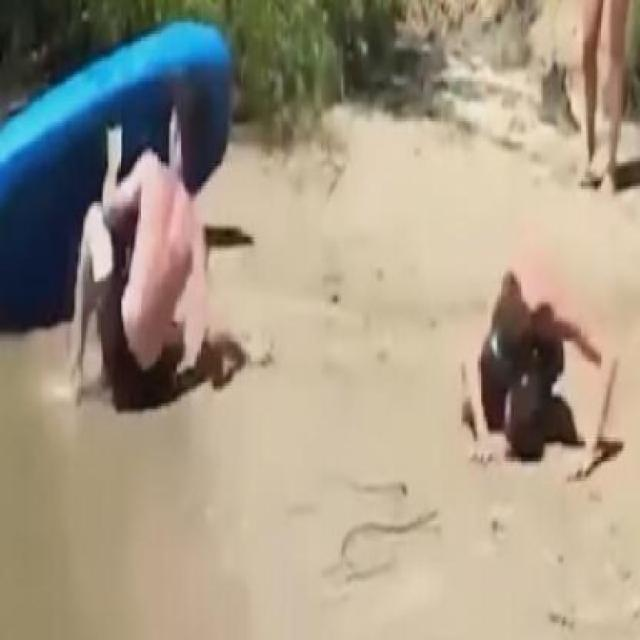fall: (68, 87, 214, 422), (465, 269, 620, 482)
